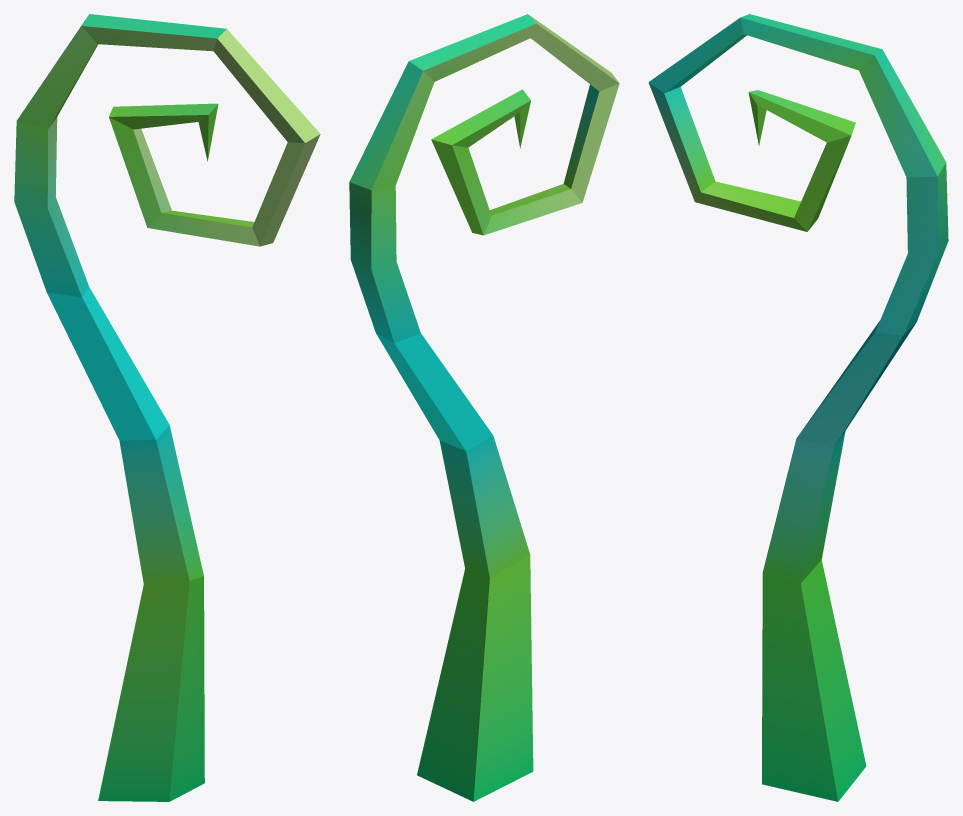
The model's file is mdl_env_1_forest_grass_g_v01.fbx.
3 views of the same model, side by side, from view 1: azimuth 90°, elevation 25°; view 2: azimuth 150°, elevation 25°; view 3: azimuth 270°, elevation 25° (orthographic). The views are drawn at different scales.
Visible parts, largest first — view 1: mdl_env_1_forest_grass_g_v01; view 2: mdl_env_1_forest_grass_g_v01; view 3: mdl_env_1_forest_grass_g_v01.
Part boxes in pixels (x1=…): mdl_env_1_forest_grass_g_v01: x1=14, y1=14, x2=320, y2=801; mdl_env_1_forest_grass_g_v01: x1=349, y1=14, x2=619, y2=801; mdl_env_1_forest_grass_g_v01: x1=648, y1=14, x2=948, y2=801.
Bounding box in the file's own units: 0.6918 × 3.62 × 1.31.
